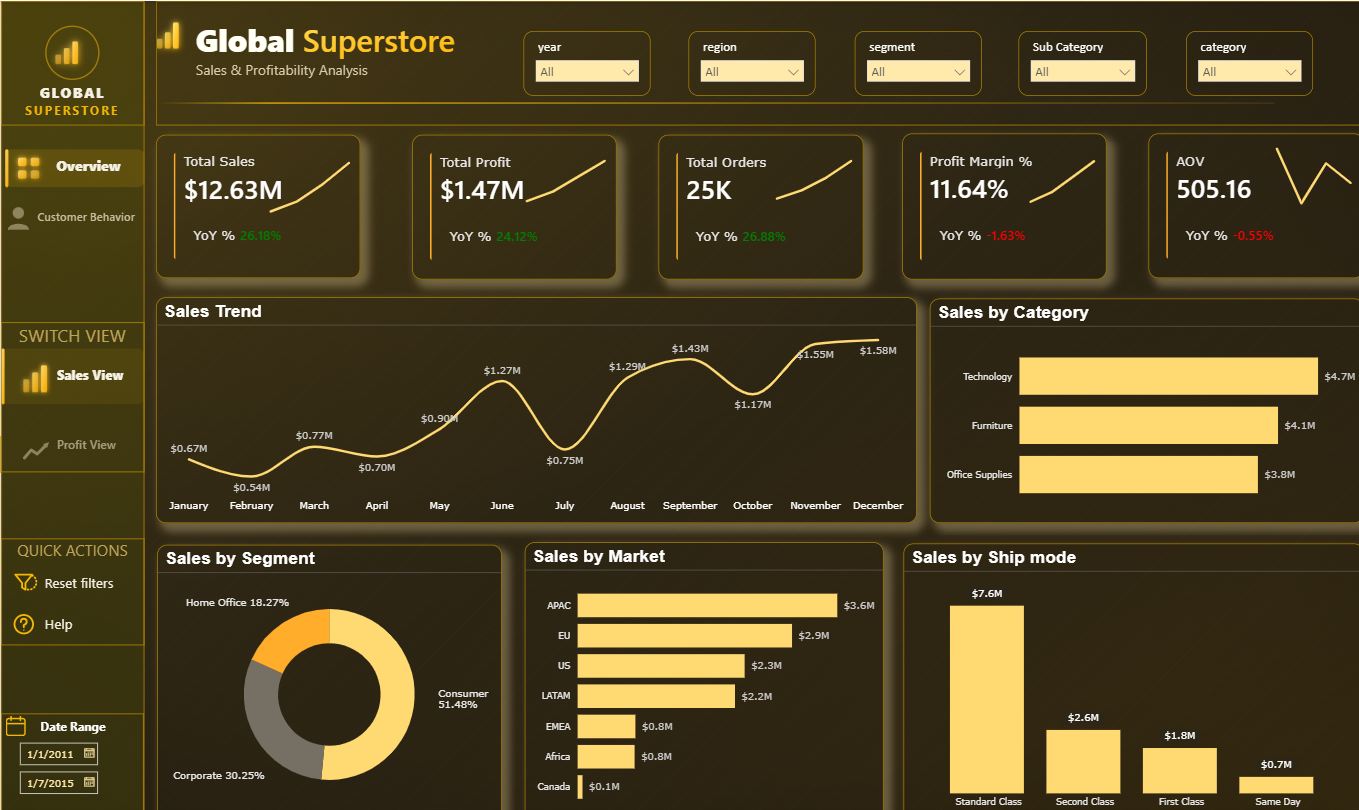

The page's visual inventory and layout, read from the dashboard file:
{"tool":"powerbi","page":{"name":"Overview","canvas":[1665,1000],"ordinal":0},"visuals":[{"type":"cardVisual","title":"Total Sales","fields":{"Data":["_All Measures.Total Sales"]},"box":[189.5,163.7,249.7,175.3],"z":0},{"type":"image","title":"sales active","box":[0,425.3,175.3,67.8],"z":0,"group":"g1"},{"type":"lineChart","title":"Trend Sales","fields":{"Category":["dim_date.full_date.Variation.Date Hierarchy.Year","dim_date.full_date.Variation.Date Hierarchy.Quarter","dim_date.full_date.Variation.Date Hierarchy.Month","dim_date.full_date.Variation.Date Hierarchy.Day"],"Y":["_All Measures.Total Sales"]},"box":[315.1,163.7,125.7,107.5],"z":1000},{"type":"image","title":"profit INactive","box":[0,508.6,175.3,67.8],"z":1000,"group":"g1"},{"type":"cardVisual","fields":{"Data":["_All Measures.AOV"]},"box":[1402.1,162,262.9,176.9],"z":2000},{"type":"clusteredBarChart","title":"Sales by Category","fields":{"Category":["dim_product.category","dim_product.sub_category"],"Y":["_All Measures.Total Sales"]},"box":[1134.2,364.2,530.8,274.5],"z":2000,"group":"g1"},{"type":"cardVisual","title":"Total Sales","fields":{"Data":["_All Measures.Orders Count"]},"box":[803.6,163.7,250,176.7],"z":3000},{"type":"donutChart","title":"Sales by Segment","fields":{"Category":["dim_customer.segment"],"Y":["_All Measures.Total Sales"]},"box":[190.1,664.3,421.2,336],"z":3000,"group":"g1"},{"type":"lineChart","fields":{"Category":["dim_date.full_date.Variation.Date Hierarchy.Year","dim_date.full_date.Variation.Date Hierarchy.Quarter","dim_date.full_date.Variation.Date Hierarchy.Month","dim_date.full_date.Variation.Date Hierarchy.Day"],"Y":["_All Measures.AOV"]},"box":[1543.7,158.7,120,105],"z":4000},{"type":"lineChart","title":"Sales Trend","fields":{"Category":["dim_date.full_date.Variation.Date Hierarchy.Year","dim_date.full_date.Variation.Date Hierarchy.Year1","dim_date.full_date.Variation.Date Hierarchy.Quarter","dim_date.full_date.Variation.Date Hierarchy.Month"],"Y":["_All Measures.Total Sales"]},"box":[189.9,362.1,929.2,276.1],"z":4000,"group":"g1"},{"type":"lineChart","fields":{"Category":["dim_date.full_date.Variation.Date Hierarchy.Year","dim_date.full_date.Variation.Date Hierarchy.Quarter","dim_date.full_date.Variation.Date Hierarchy.Month","dim_date.full_date.Variation.Date Hierarchy.Day"],"Y":["_All Measures.Total Orders"]},"box":[932.5,165.3,120.7,87.6],"z":5000},{"type":"clusteredBarChart","title":"Sales by Market ","fields":{"Category":["dim_location.market"],"Y":["_All Measures.Total Sales"]},"box":[639.6,661.6,438.2,339],"z":5000,"group":"g1"},{"type":"image","box":[189.8,0,1474.9,152.1],"z":6000},{"type":"columnChart","title":"Sales by Ship mode","fields":{"Category":["dim_shipping.ship_mode"],"Y":["_All Measures.Total Sales"]},"box":[1102.6,663.3,562.2,337.3],"z":6000,"group":"g1"},{"type":"shape","box":[0,0,175.3,1000.3],"z":7000},{"type":"cardVisual","title":"Total Sales","fields":{"Data":["_All Measures.Total Profit"]},"box":[502.6,163.7,249.7,176.9],"z":8000},{"type":"lineChart","fields":{"Category":["dim_date.full_date.Variation.Date Hierarchy.Year","dim_date.full_date.Variation.Date Hierarchy.Quarter","dim_date.full_date.Variation.Date Hierarchy.Month","dim_date.full_date.Variation.Date Hierarchy.Day"],"Y":["_All Measures.Total Profit"]},"box":[628.3,163.7,125,96.7],"z":9000},{"type":"cardVisual","title":"Total Sales","fields":{"Data":["_All Measures.Profit Margin %"]},"box":[1101.2,162,249.7,178.6],"z":10000},{"type":"lineChart","fields":{"Category":["dim_date.full_date.Variation.Date Hierarchy.Year","dim_date.full_date.Variation.Date Hierarchy.Quarter","dim_date.full_date.Variation.Date Hierarchy.Month","dim_date.full_date.Variation.Date Hierarchy.Day"],"Y":["_All Measures.Total Profit"]},"box":[1243.4,163.7,107.5,97.6],"z":11000},{"type":"slicer","fields":{"Values":["dim_date.year"]},"box":[637.9,36.4,155.4,79.4],"z":12000},{"type":"slicer","fields":{"Values":["dim_location.region"]},"box":[839.6,36.4,155.4,79.4],"z":13000},{"type":"slicer","fields":{"Values":["dim_product.category"]},"box":[1448.1,36.4,155.4,79.4],"z":14000},{"type":"slicer","fields":{"Values":["dim_product.sub_category"]},"box":[1243,36.4,157.1,79.4],"z":15000},{"type":"slicer","fields":{"Values":["dim_customer.segment"]},"box":[1043,36.4,155.4,79.4],"z":16000},{"type":"textbox","box":[0,391.9,175.3,183.5],"z":17000},{"type":"image","box":[0,178.6,175.3,51.3],"z":18000},{"type":"image","box":[0,239.7,175.3,51.3],"z":19000},{"type":"image","box":[0,0,175.3,152.1],"z":20000},{"type":"slicer","fields":{"Values":["dim_date.full_date"]},"box":[0,891.8,175.3,107.5],"z":21000},{"type":"image","box":[0,873.6,36.2,25],"z":22000},{"type":"textbox","box":[36.2,871.1,102.5,30],"z":23000},{"type":"shape","box":[0,870.5,174.5,127.6],"z":24000},{"type":"textbox","box":[0,657.4,175.3,130.6],"z":25000},{"type":"image","box":[0,737.7,175.3,50],"z":26000},{"type":"image","box":[0,687.1,175.3,50],"z":27000},{"type":"group","id":"g1","title":"Sales Group","box":[0,362.1,1664.9,638.5],"z":28000}]}

Visuals, with their boxes on the page's 1665x1000 design canvas (x1, y1, x2, y2). These are canvas units, not pixel positions in the 1359x810 screenshot, which may show the page scaled, cropped or inside an application window:
"Total Sales" cardVisual: 190 164 439 339
"sales active" image: 0 425 175 493
"Trend Sales" lineChart: 315 164 441 271
"profit INactive" image: 0 509 175 576
cardVisual - _All Measures.AOV: 1402 162 1665 339
"Sales by Category" clusteredBarChart: 1134 364 1665 639
"Total Sales" cardVisual: 804 164 1054 340
"Sales by Segment" donutChart: 190 664 611 1000
lineChart - dim_date.full_date.Variation.Date Hierarchy.Year x dim_date.full_date.Variation.Date Hierarchy.Quarter: 1544 159 1664 264
"Sales Trend" lineChart: 190 362 1119 638
lineChart - dim_date.full_date.Variation.Date Hierarchy.Year x dim_date.full_date.Variation.Date Hierarchy.Quarter: 932 165 1053 253
"Sales by Market " clusteredBarChart: 640 662 1078 1001
image: 190 0 1665 152
"Sales by Ship mode" columnChart: 1103 663 1665 1001
shape: 0 0 175 1000
"Total Sales" cardVisual: 503 164 752 341
lineChart - dim_date.full_date.Variation.Date Hierarchy.Year x dim_date.full_date.Variation.Date Hierarchy.Quarter: 628 164 753 260
"Total Sales" cardVisual: 1101 162 1351 341
lineChart - dim_date.full_date.Variation.Date Hierarchy.Year x dim_date.full_date.Variation.Date Hierarchy.Quarter: 1243 164 1351 261
slicer - dim_date.year: 638 36 793 116
slicer - dim_location.region: 840 36 995 116
slicer - dim_product.category: 1448 36 1604 116
slicer - dim_product.sub_category: 1243 36 1400 116
slicer - dim_customer.segment: 1043 36 1198 116
textbox: 0 392 175 575
image: 0 179 175 230
image: 0 240 175 291
image: 0 0 175 152
slicer - dim_date.full_date: 0 892 175 999
image: 0 874 36 899
textbox: 36 871 139 901
shape: 0 870 174 998
textbox: 0 657 175 788
image: 0 738 175 788
image: 0 687 175 737
"Sales Group" group: 0 362 1665 1001
